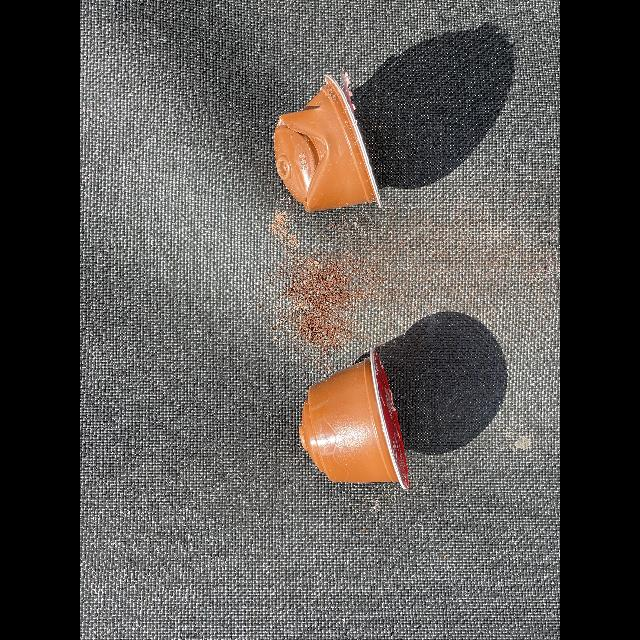damaged_capsule: (266, 68, 394, 232)
intact_capsule: (282, 338, 423, 502)
